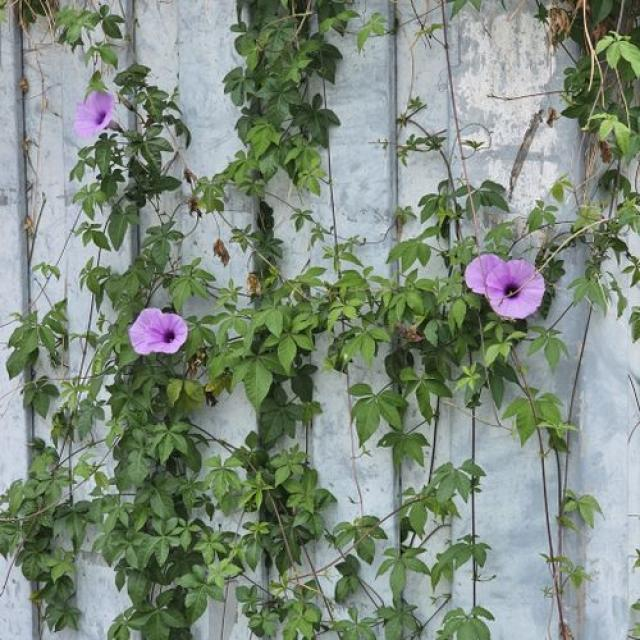ipomoea: (460, 250, 549, 325), (123, 303, 192, 361), (69, 86, 120, 144)
